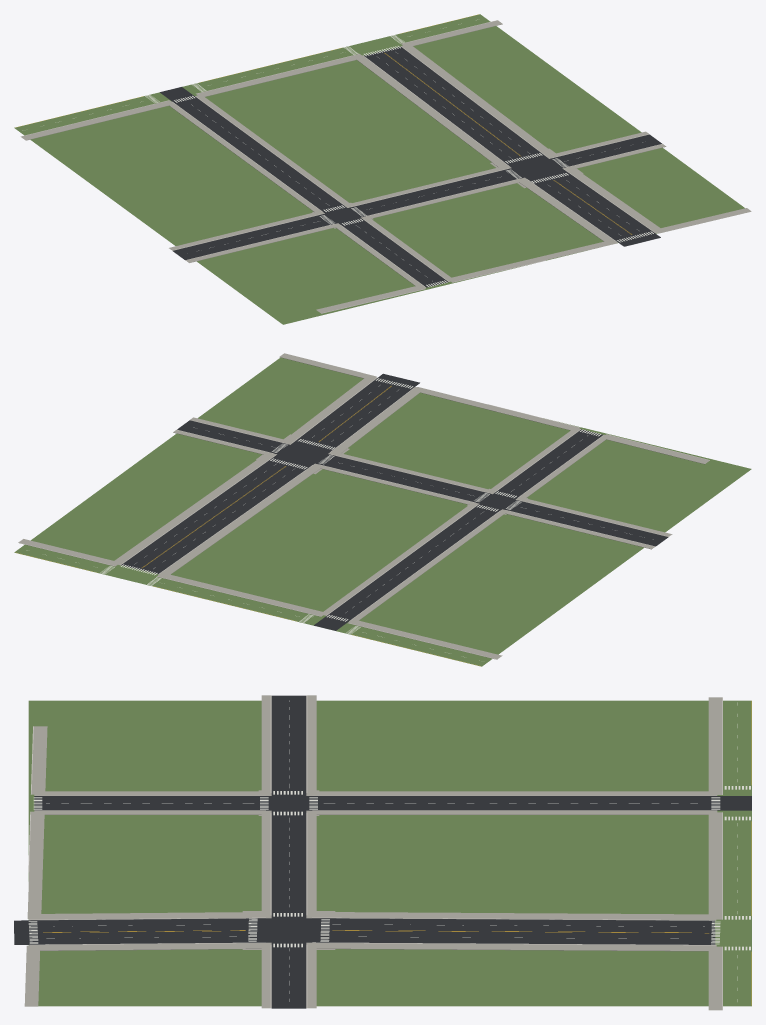
The model's file is Ground_6_3.fbx.
3 renders of one model, top to bottom at view 1: azimuth 30°, elevation 25°; view 2: azimuth 150°, elevation 25°; view 3: azimuth 270°, elevation 25°, orthographic. The views are drawn at different scales.
Parts seen in each view (by area): view 1: Ground_6_3; view 2: Ground_6_3; view 3: Ground_6_3.
Part boxes in pixels (<box>): Ground_6_3: <box>14,14,751,324</box>; Ground_6_3: <box>14,353,751,666</box>; Ground_6_3: <box>14,695,751,1010</box>.
Size of the model in its own units: 258 by 0.14 by 255.
